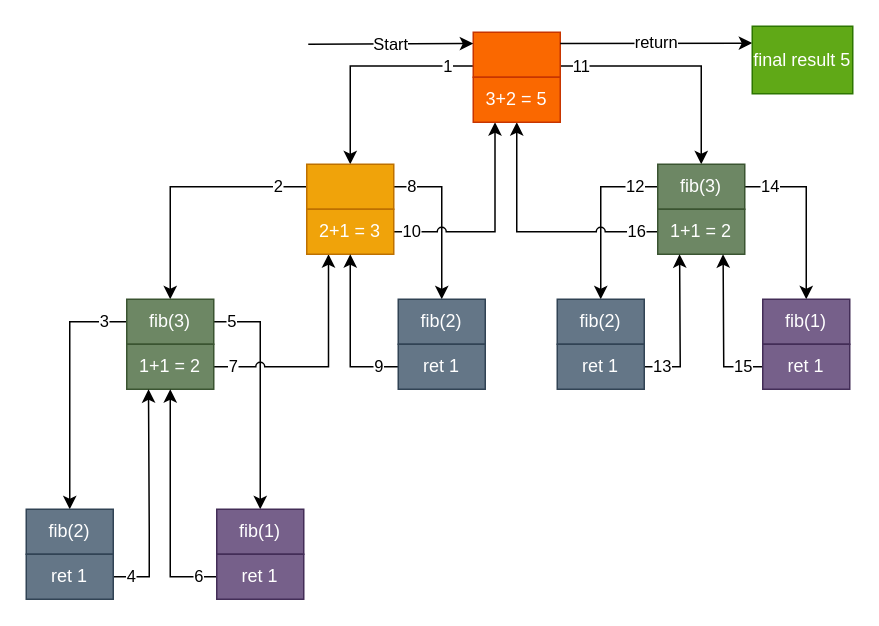
The diagram is 879 pixels wide and 626 high, and some of its shapes have lost their labels. The box of each missing label's shape, as (x1, y1, x2, y2) in pixels:
fib(4): (305, 163, 394, 209)
fib(5): (472, 31, 560, 77)
